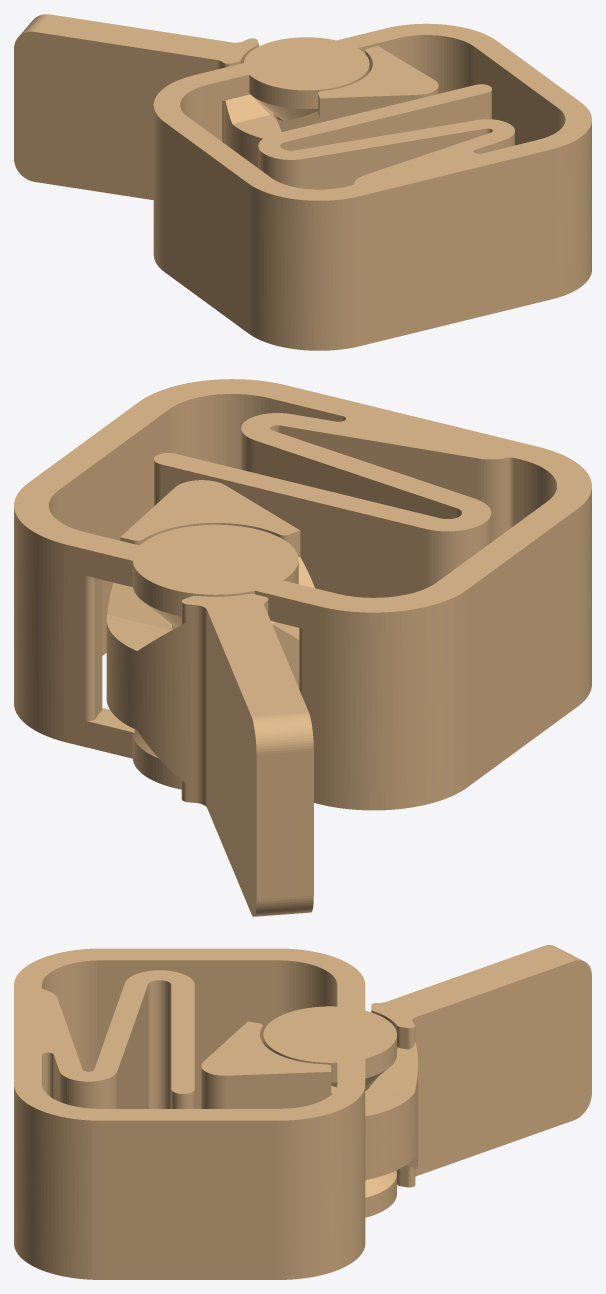
The model's file is Fidget_Switch.glb.
3 views of the same model, one above another, from view 1: azimuth 30°, elevation 25°; view 2: azimuth 150°, elevation 25°; view 3: azimuth 270°, elevation 25° (orthographic). The views are drawn at different scales.
Parts seen in each view (by area): view 1: Node2; view 2: Node2; view 3: Node2.
Boxes of the visible parts, box(x1,y1,x2,y2) form: Node2: box(14, 14, 591, 350); Node2: box(14, 379, 591, 916); Node2: box(14, 945, 591, 1279).
Size of the model in its own units: 36.61 by 15 by 49.35.
